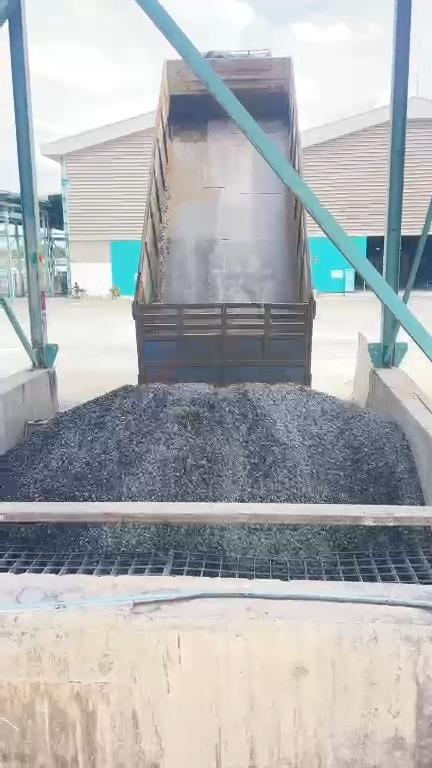gravel: (0, 384, 423, 504), (10, 526, 412, 555), (421, 531, 427, 535)
